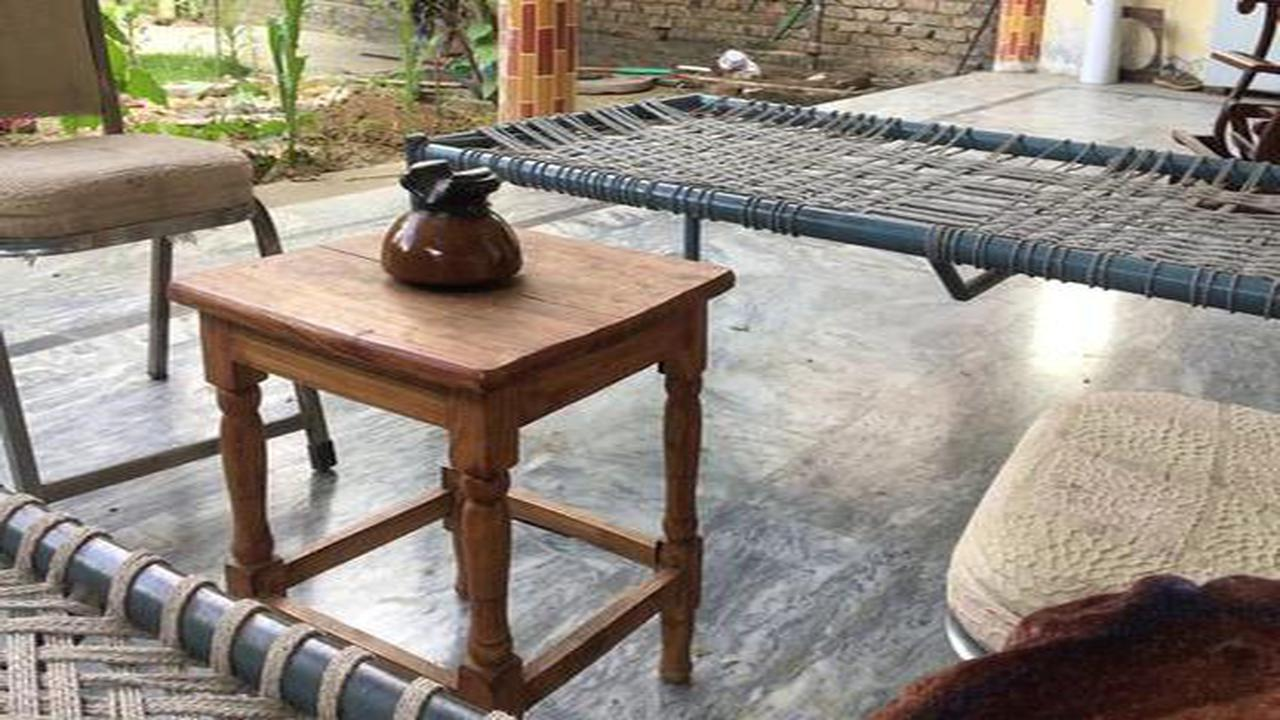insulator_pin: (367, 148, 539, 305)
